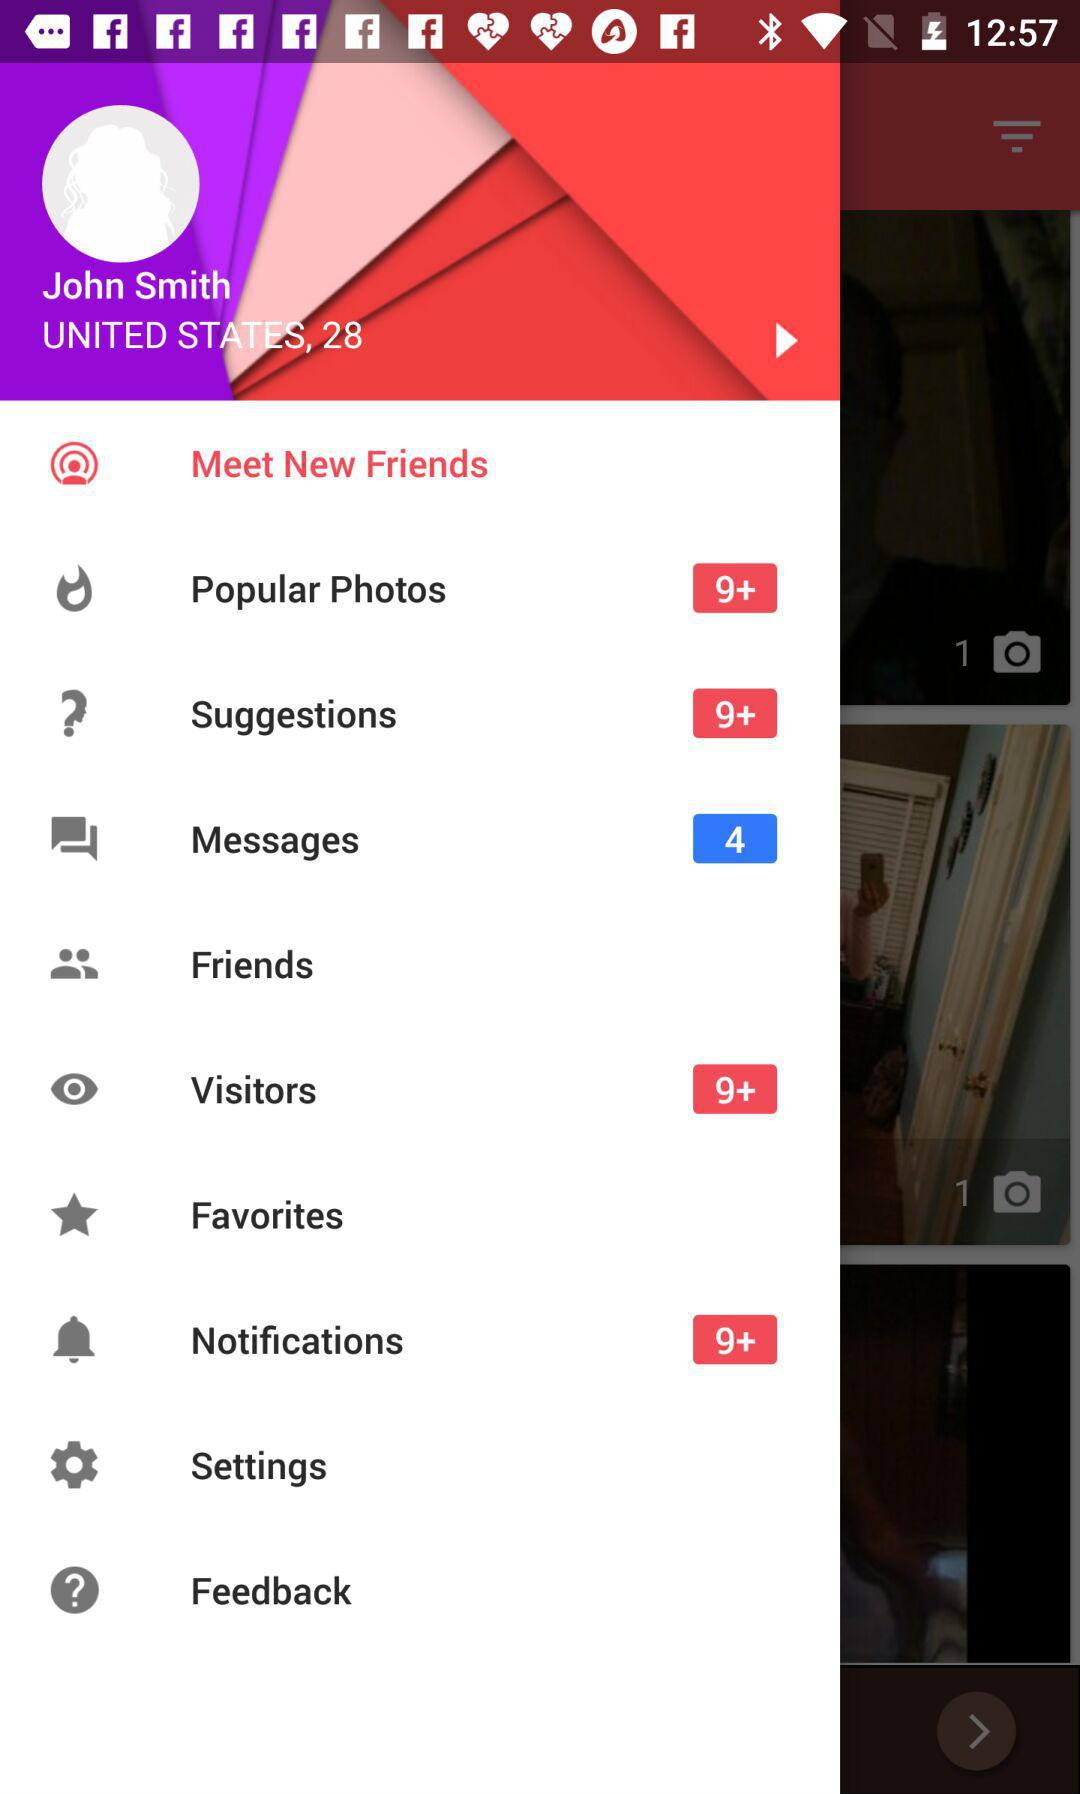Drawer: (1, 64, 840, 1793)
Icon: (41, 105, 202, 264), (51, 1565, 101, 1615), (51, 1440, 100, 1490), (51, 816, 100, 865), (50, 441, 100, 487), (51, 1192, 100, 1238), (53, 1315, 97, 1365), (50, 948, 101, 982), (51, 1073, 100, 1106), (61, 689, 88, 739), (775, 323, 799, 361)
Image: (56, 564, 95, 613)
Text: (42, 320, 363, 354), (192, 573, 447, 613), (192, 448, 489, 481), (192, 698, 398, 738), (192, 1324, 405, 1357), (42, 268, 232, 302), (192, 825, 360, 864), (192, 1449, 328, 1489), (192, 1575, 354, 1607), (192, 1199, 345, 1231), (190, 1074, 316, 1106), (192, 950, 314, 982)
TextButton: (692, 1064, 778, 1115), (693, 563, 778, 614), (693, 688, 778, 739), (693, 814, 778, 865), (693, 1313, 778, 1365)
UpperTaskBar: (1, 1, 1080, 64)
